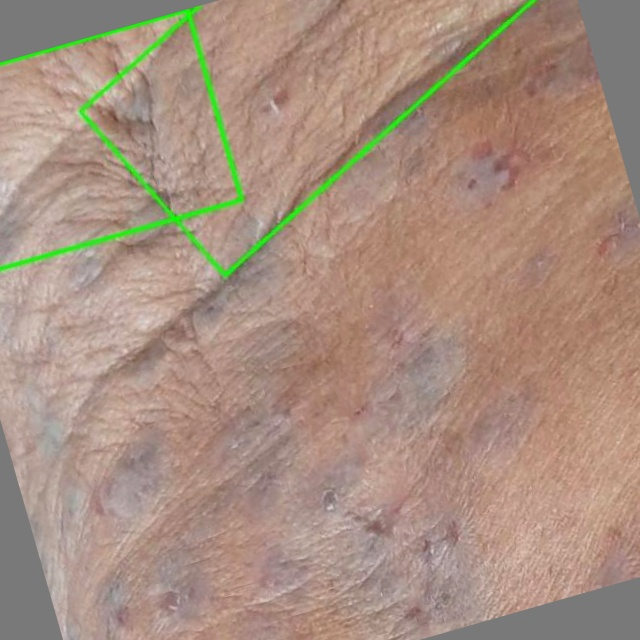Contact Dermatitis: (75, 0, 519, 274), (0, 10, 241, 268)
